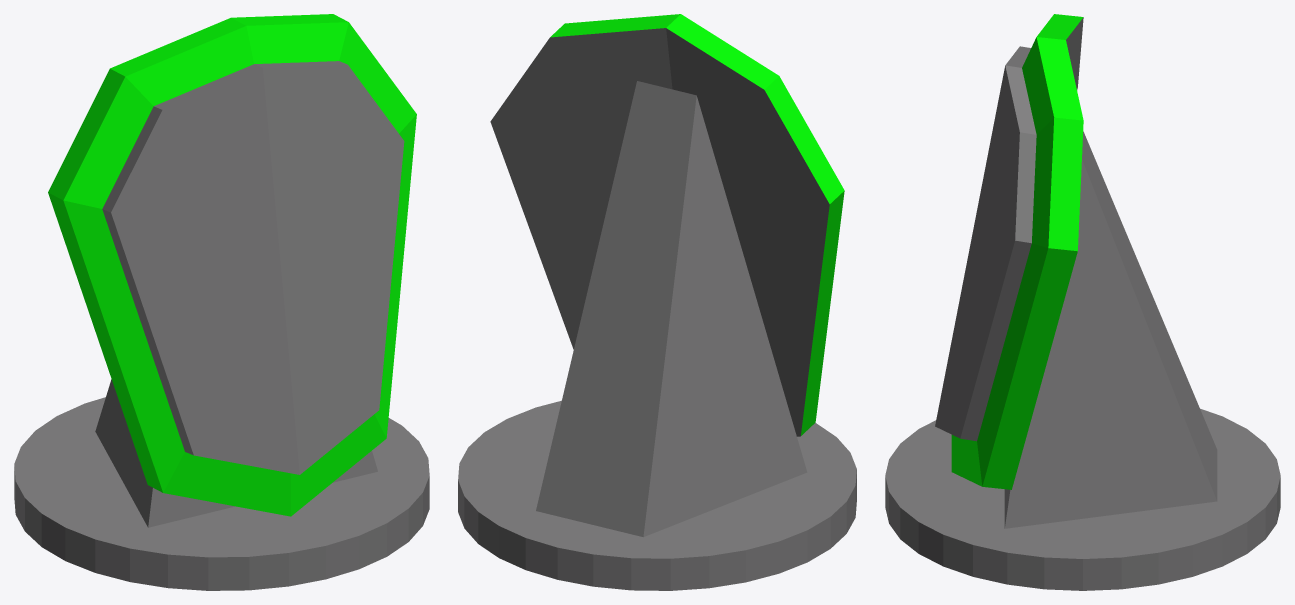
File: barrier_basic.fbx
The picture shows the model from 3 angles, left to right: view 1: azimuth 30°, elevation 25°; view 2: azimuth 150°, elevation 25°; view 3: azimuth 270°, elevation 25°; orthographic projection. The views are drawn at different scales.
Visible parts, largest first — view 1: Circle.001; view 2: Circle.001; view 3: Circle.001.
Boxes of the visible parts, x1,y1,x2,y2 form: Circle.001: (14, 14, 429, 590); Circle.001: (458, 14, 856, 590); Circle.001: (885, 14, 1280, 590).
Size of the model in its own units: 306 by 402 by 306.
Materials: 1 (1 with a texture image).
